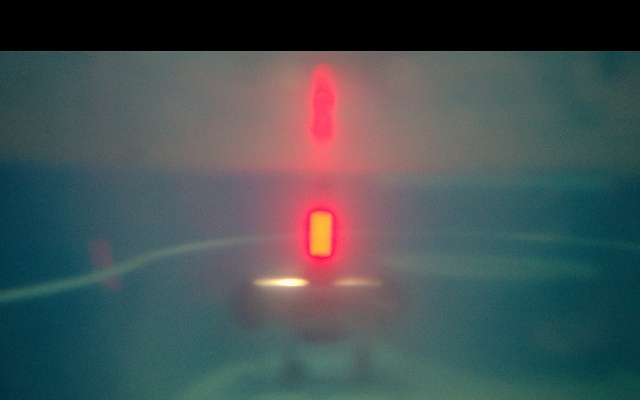red: (310, 211, 333, 261)
